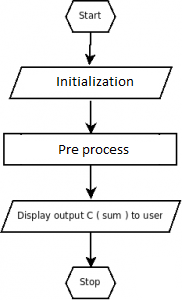arrow: (85, 99, 97, 132), (85, 234, 97, 267), (84, 33, 96, 65), (85, 166, 96, 200)
data: (1, 199, 182, 234), (8, 65, 173, 100)
process: (2, 133, 180, 167), (65, 266, 116, 300), (64, 1, 116, 34)
text: (17, 210, 163, 222), (55, 76, 134, 88), (58, 143, 129, 156), (77, 10, 101, 22), (79, 277, 102, 288)
